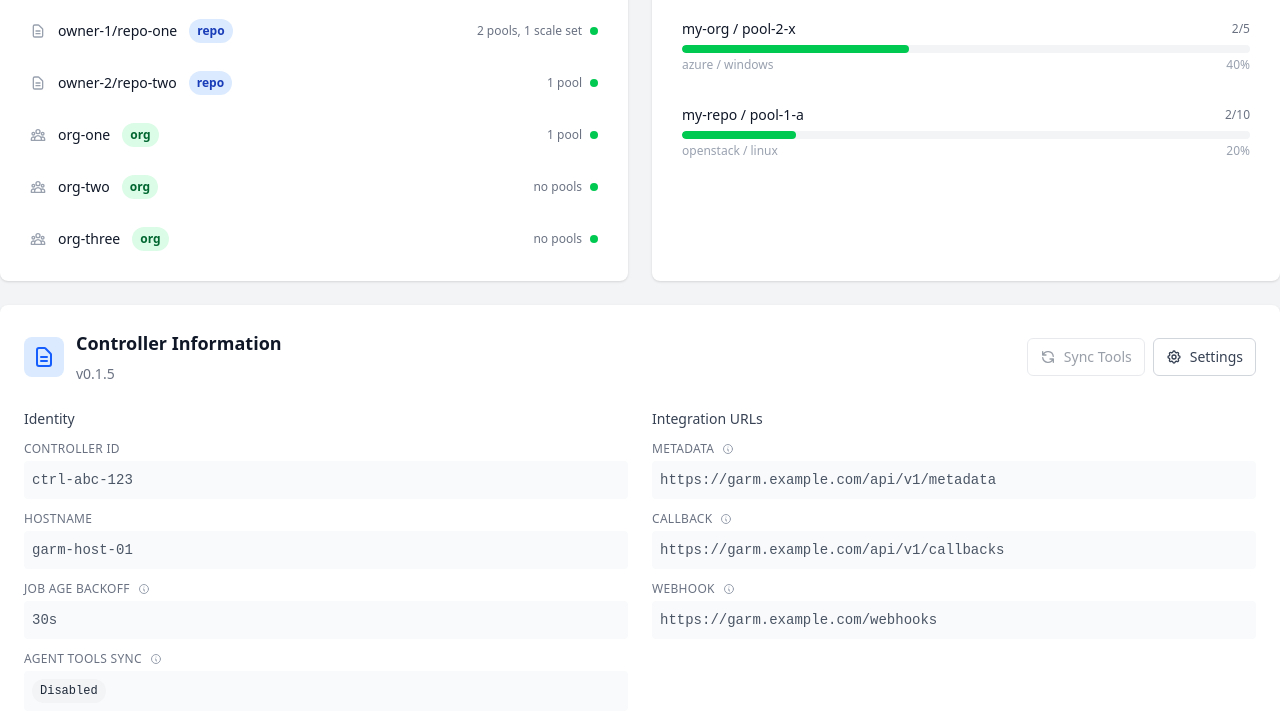
Test: Dashboard Page Integration Tests › Controller Info Card › should keep an older pinned release selectable beyond the dropdown limit
(page scrolled)
Click the button "Settings" at (1204, 357), box [1153,338,1256,376]
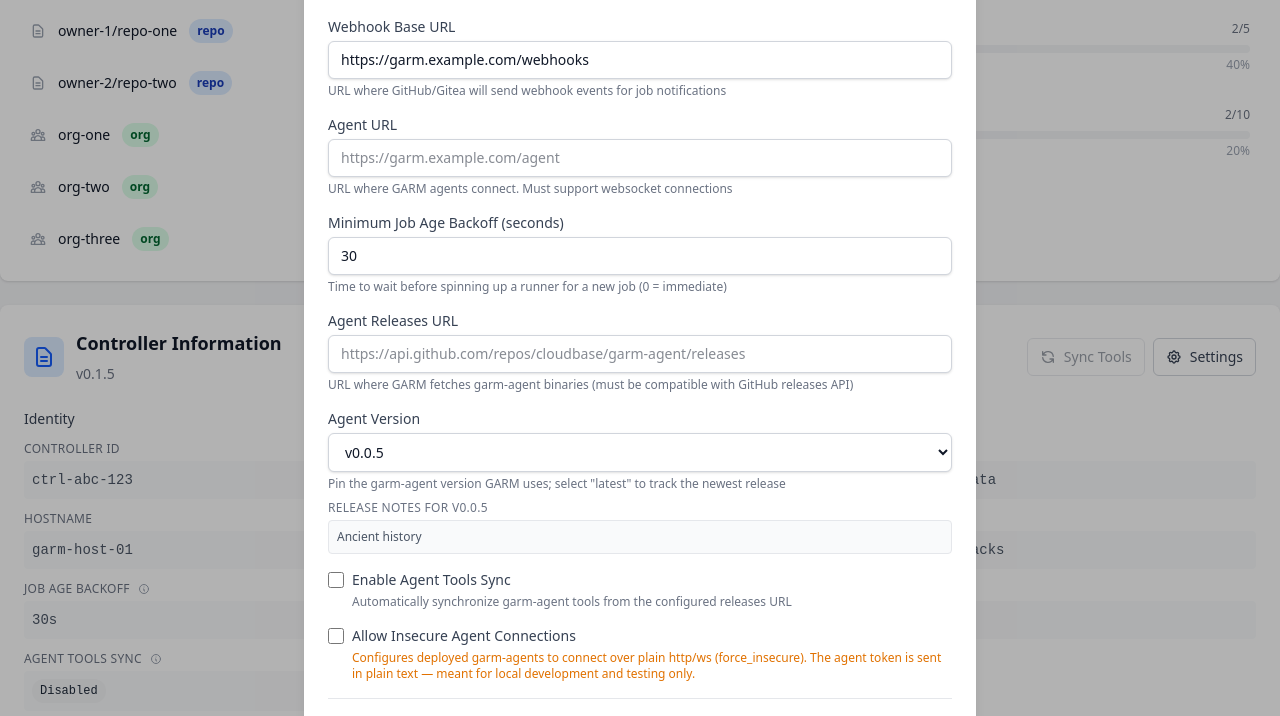
Now the dropdown with id "garmAgentVersion" shows "v0.0.5", box [328,433,952,472]
Now the text with test id "agent-release-notes" reads "Ancient history", box [337,528,422,545]
